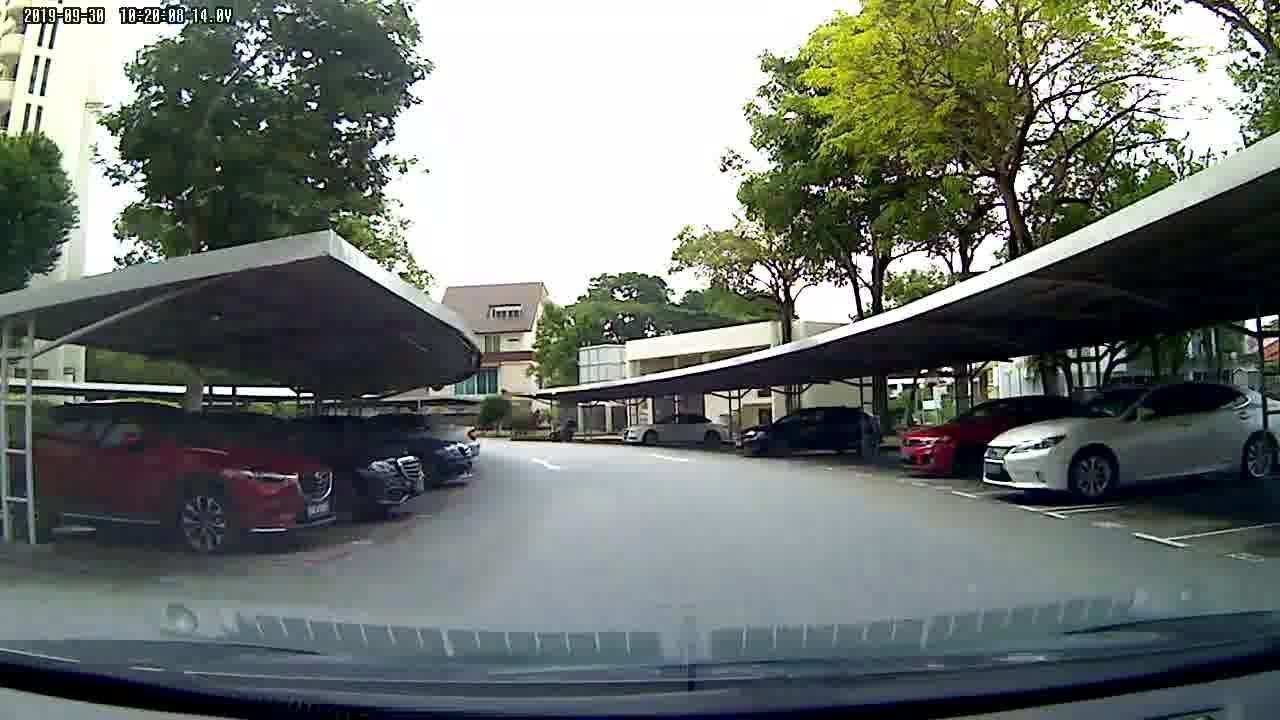car: (11, 403, 338, 568), (978, 378, 1280, 500), (733, 407, 887, 464), (617, 411, 737, 455)
